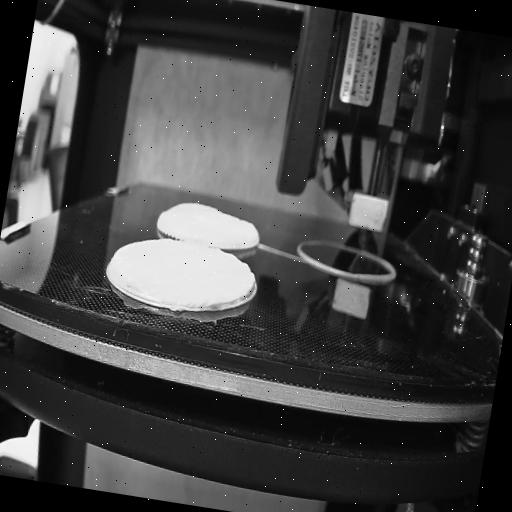over_extrusion: (234, 274, 259, 306)
